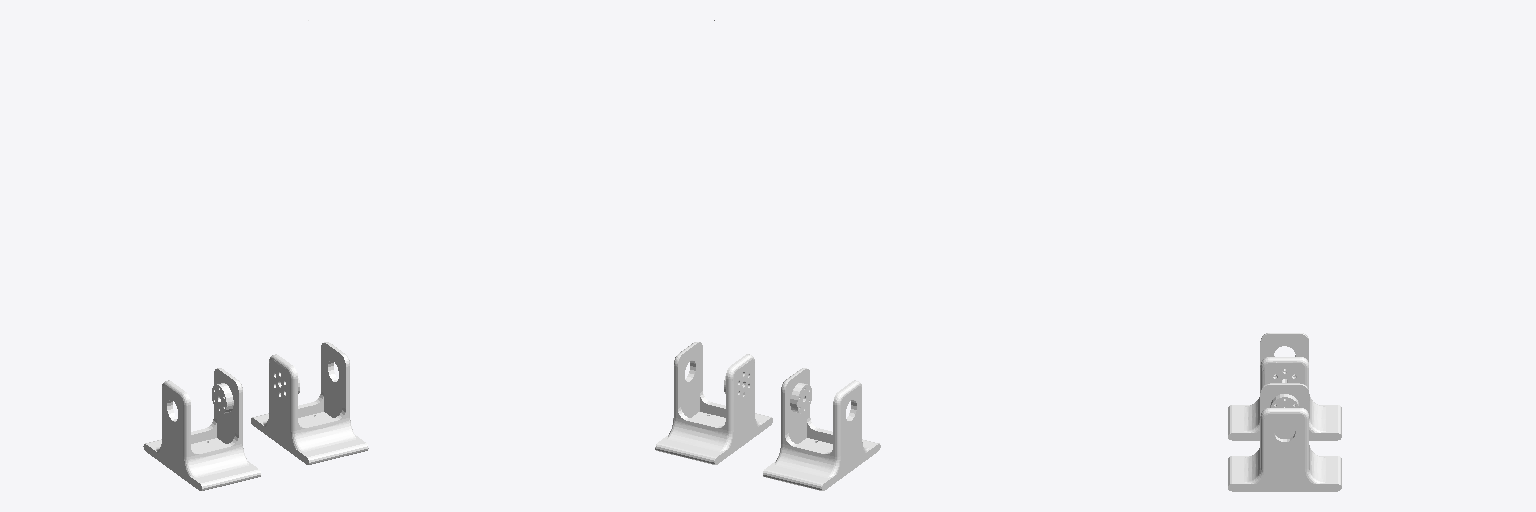
robot.urdf — Xuanwu:
<?xml version="1.0" encoding="utf-8"?>
<!-- This URDF was automatically created by SolidWorks to URDF Exporter! Originally created by [author] ([email redacted]) 
     Commit Version: 1.6.0-4-g7f85cfe  Build Version: 1.6.7995.38578
     For more information, please see http://wiki.ros.org/sw_urdf_exporter -->
<robot
  name="Xuanwu">
  <link
    name="base_link">
    <inertial>
      <origin
        xyz="0.001 -0.0001 0.0685"
        rpy="0 0 0" />
      <mass
        value="1.874" />
      <inertia
        ixx="0.018815"
        ixy="-0.000024"
        ixz="-0.000076"
        iyy="0.023869"
        iyz="0.000022"
        izz="0.006187" />
    </inertial>
    <visual>
      <origin
        xyz="0 0 0"
        rpy="0 0 0" />
      <geometry>
        <mesh
          filename="../meshes/base_link.STL" />
      </geometry>
      <material
        name="">
        <color
          rgba="1 1 1 1" />
      </material>
    </visual>
    <collision>
      <origin
        xyz="0 0 0.2"
        rpy="0 0 0" />
      <geometry>
        <box size="0.1 0.2 0.2"/>
      </geometry>
    </collision>
  </link>
  <link
    name="link_1">
    <inertial>
      <origin
        xyz="-0.006 -0.065 -0.0806"
        rpy="0 0 0" />
      <mass
        value="0.469" />
      <inertia
        ixx="0.006798"
        ixy="0.000002"
        ixz="0.000005"
        iyy="0.004351"
        iyz="-0.003146"
        izz="0.002837" />
    </inertial>
    <visual>
      <origin
        xyz="0 0 0"
        rpy="0 0 0" />
      <geometry>
        <mesh
          filename="../meshes/link_1.STL" />
      </geometry>
      <material
        name="">
        <color
          rgba="1 1 1 1" />
      </material>
    </visual>
    <!-- <collision>
      <origin
        xyz="0 0 0"
        rpy="0 0 0" />
      <geometry>
        <mesh
          filename="../meshes/link_1.STL" />
      </geometry>
    </collision> -->
  </link>
  <joint
    name="joint_1"
    type="revolute">
    <origin
      xyz="-0.073 0 -0.001"
      rpy="0 0 0" />
    <parent
      link="base_link" />
    <child
      link="link_1" />
    <axis
      xyz="0 0 1" />
    <limit
      lower="-0.5"
      upper="0.5"
      effort="7"
      velocity="12" />
  </joint>
  <link
    name="link_2">
    <inertial>
      <origin
        xyz="0 0.078 0"
        rpy="0 0 0" />
      <mass
        value="0.364" />
      <inertia
        ixx="0.000134"
        ixy="0"
        ixz="0"
        iyy="0.000094"
        iyz="0"
        izz="0.000146" />
    </inertial>
    <visual>
      <origin
        xyz="0 0 0"
        rpy="0 0 0" />
      <geometry>
        <mesh
          filename="../meshes/link_2.STL" />
      </geometry>
      <material
        name="">
        <color
          rgba="1 1 1 1" />
      </material>
    </visual>
    <!-- <collision>
      <origin
        xyz="0 0 0"
        rpy="0 0 0" />
      <geometry>
        <mesh
          filename="../meshes/link_2.STL" />
      </geometry>
    </collision> -->
  </link>
  <joint
    name="joint_2"
    type="revolute">
    <origin
      xyz="0 -0.083 -0.11"
      rpy="0 0 0" />
    <parent
      link="link_1" />
    <child
      link="link_2" />
    <axis
      xyz="0 1 0" />
    <limit
      lower="-0.7"
      upper="0.7"
      effort="7"
      velocity="12" />
  </joint>
  <link
    name="link_3">
    <inertial>
      <origin
        xyz="0 0 -0.145"
        rpy="0 0 0" />
      <mass
        value="0.475" />
      <inertia
        ixx="0.011707"
        ixy="0"
        ixz="-0.000057"
        iyy="0.011788"
        iyz="-0.000004"
        izz="0.000256" />
    </inertial>
    <visual>
      <origin
        xyz="0 0 0"
        rpy="0 0 0" />
      <geometry>
        <mesh
          filename="../meshes/link_3.STL" />
      </geometry>
      <material
        name="">
        <color
          rgba="1 1 1 1" />
      </material>
    </visual>
    <!-- <collision>
      <origin
        xyz="0 0 0"
        rpy="0 0 0" />
      <geometry>
        <mesh
          filename="../meshes/link_3.STL" />
      </geometry>
    </collision> -->
  </link>
  <joint
    name="joint_3"
    type="revolute">
    <origin
      xyz="0 0.082 0"
      rpy="0 0 0" />
    <parent
      link="link_2" />
    <child
      link="link_3" />
    <axis
      xyz="1 0 0" />
    <limit
      lower="-0.25"
      upper="1.57"
      effort="7"
      velocity="12" />
  </joint>
  <link
    name="link_4">
    <inertial>
      <origin
        xyz="0 0 -0.145"
        rpy="0 0 0" />
      <mass
        value="0.475" />
      <inertia
        ixx="0.011713"
        ixy="0"
        ixz="-0.000057"
        iyy="0.011793"
        iyz="0.000002"
        izz="0.000256" />
    </inertial>
    <visual>
      <origin
        xyz="0 0 0"
        rpy="0 0 0" />
      <geometry>
        <mesh
          filename="../meshes/link_4.STL" />
      </geometry>
      <material
        name="">
        <color
          rgba="1 1 1 1" />
      </material>
    </visual>
    <!-- <collision>
      <origin
        xyz="0 0 0"
        rpy="0 0 0" />
      <geometry>
        <mesh
          filename="../meshes/link_4.STL" />
      </geometry>
    </collision> -->
  </link>
  <joint
    name="joint_4"
    type="revolute">
    <origin
      xyz="0 0 -0.18"
      rpy="0 0 0" />
    <parent
      link="link_3" />
    <child
      link="link_4" />
    <axis
      xyz="1 0 0" />
    <limit
      lower="-1.57"
      upper="1.57"
      effort="7"
      velocity="12" />
  </joint>
  <link
    name="link_5">
    <inertial>
      <origin
        xyz="0 0 -0.053"
        rpy="0 0 0" />
      <mass
        value="0.107" />
      <inertia
        ixx="0.000494"
        ixy="0"
        ixz="-0.000005"
        iyy="0.000482"
        iyz="0"
        izz="0.000180" />
    </inertial>
    <visual>
      <origin
        xyz="0 0 0"
        rpy="0 0 0" />
      <geometry>
        <mesh
          filename="../meshes/link_5.STL" />
      </geometry>
      <material
        name="">
        <color
          rgba="1 1 1 1" />
      </material>
    </visual>
    <collision>
      <origin
        xyz="0 0 0"
        rpy="0 0 0" />
      <geometry>
        <mesh
          filename="../meshes/link_5.STL" />
      </geometry>
    </collision>
  </link>
  <joint
    name="joint_5"
    type="revolute">
    <origin
      xyz="0 0 -0.18"
      rpy="0 0 0" />
    <parent
      link="link_4" />
    <child
      link="link_5" />
    <axis
      xyz="1 0 0" />
    <limit
      lower="-1.57"
      upper="1.57"
      effort="7"
      velocity="12" />
  </joint>
  <link
    name="link_6">
    <inertial>
      <origin
        xyz="0.006 -0.065 -0.0806"
        rpy="0 0 0" />
      <mass
        value="0.469" />
      <inertia
        ixx="0.006798"
        ixy="-0.00002"
        ixz="-0.00005"
        iyy="0.004351"
        iyz="-0.003147"
        izz="0.002837" />
    </inertial>
    <visual>
      <origin
        xyz="0 0 0"
        rpy="0 0 0" />
      <geometry>
        <mesh
          filename="../meshes/link_6.STL" />
      </geometry>
      <material
        name="">
        <color
          rgba="1 1 1 1" />
      </material>
    </visual>
    <!-- <collision>
      <origin
        xyz="0 0 0"
        rpy="0 0 0" />
      <geometry>
        <mesh
          filename="../meshes/link_6.STL" />
      </geometry>
    </collision> -->
  </link>
  <joint
    name="joint_6"
    type="revolute">
    <origin
      xyz="0.073 0 -0.001"
      rpy="0 0 0" />
    <parent
      link="base_link" />
    <child
      link="link_6" />
    <axis
      xyz="0 0 1" />
    <limit
      lower="-0.5"
      upper="0.5"
      effort="7"
      velocity="12" />
  </joint>
  <link
    name="link_7">
    <inertial>
      <origin
        xyz="0 0.078 0"
        rpy="0 0 0" />
      <mass
        value="0.364" />
      <inertia
        ixx="0.002344"
        ixy="0.000003"
        ixz="0"
        iyy="0.000094"
        iyz="-0.000001"
        izz="0.002356" />
    </inertial>
    <visual>
      <origin
        xyz="0 0 0"
        rpy="0 0 0" />
      <geometry>
        <mesh
          filename="../meshes/link_7.STL" />
      </geometry>
      <material
        name="">
        <color
          rgba="1 1 1 1" />
      </material>
    </visual>
    <!-- <collision>
      <origin
        xyz="0 0 0"
        rpy="0 0 0" />
      <geometry>
        <mesh
          filename="../meshes/link_7.STL" />
      </geometry>
    </collision> -->
  </link>
  <joint
    name="joint_7"
    type="revolute">
    <origin
      xyz="0 -0.083 -0.11"
      rpy="0 0 0" />
    <parent
      link="link_6" />
    <child
      link="link_7" />
    <axis
      xyz="0 1 0" />
    <limit
      lower="-0.7"
      upper="0.7"
      effort="7"
      velocity="12" />
  </joint>
  <link
    name="link_8">
    <inertial>
      <origin
        xyz="0 0 -0.145"
        rpy="0 0 0" />
      <mass
        value="0.475" />
      <inertia
        ixx="0.011711"
        ixy="0"
        ixz="0.000057"
        iyy="0.011792"
        iyz="-0.000001"
        izz="0.000256" />
    </inertial>
    <visual>
      <origin
        xyz="0 0 0"
        rpy="0 0 0" />
      <geometry>
        <mesh
          filename="../meshes/link_8.STL" />
      </geometry>
      <material
        name="">
        <color
          rgba="1 1 1 1" />
      </material>
    </visual>
    <!-- <collision>
      <origin
        xyz="0 0 0"
        rpy="0 0 0" />
      <geometry>
        <mesh
          filename="../meshes/link_8.STL" />
      </geometry>
    </collision> -->
  </link>
  <joint
    name="joint_8"
    type="revolute">
    <origin
      xyz="0 0.082 0"
      rpy="0 0 0" />
    <parent
      link="link_7" />
    <child
      link="link_8" />
    <axis
      xyz="1 0 0" />
    <limit
      lower="-0.25"
      upper="1.57"
      effort="7"
      velocity="12" />
  </joint>
  <link
    name="link_9">
    <inertial>
      <origin
        xyz="0 0 -0.145"
        rpy="0 0 0" />
      <mass
        value="0.475" />
      <inertia
        ixx="0.011715"
        ixy="0"
        ixz="0.000057"
        iyy="0.011796"
        iyz="0"
        izz="0.000256" />
    </inertial>
    <visual>
      <origin
        xyz="0 0 0"
        rpy="0 0 0" />
      <geometry>
        <mesh
          filename="../meshes/link_9.STL" />
      </geometry>
      <material
        name="">
        <color
          rgba="1 1 1 1" />
      </material>
    </visual>
    <!-- <collision>
      <origin
        xyz="0 0 0"
        rpy="0 0 0" />
      <geometry>
        <mesh
          filename="../meshes/link_9.STL" />
      </geometry>
    </collision> -->
  </link>
  <joint
    name="joint_9"
    type="revolute">
    <origin
      xyz="0 0 -0.18"
      rpy="0 0 0" />
    <parent
      link="link_8" />
    <child
      link="link_9" />
    <axis
      xyz="1 0 0" />
    <limit
      lower="-1.57"
      upper="1.57"
      effort="7"
      velocity="12" />
  </joint>
  <link
    name="link_10">
    <inertial>
      <origin
        xyz="0 0 -0.053"
        rpy="0 0 0" />
      <mass
        value="0.107" />
      <inertia
        ixx="0.000493"
        ixy="0"
        ixz="0.000005"
        iyy="0.000482"
        iyz="0"
        izz="0.000180" />
    </inertial>
    <visual>
      <origin
        xyz="0 0 0"
        rpy="0 0 0" />
      <geometry>
        <mesh
          filename="../meshes/link_10.STL" />
      </geometry>
      <material
        name="">
        <color
          rgba="1 1 1 1" />
      </material>
    </visual>
    <collision>
      <origin
        xyz="0 0 0"
        rpy="0 0 0" />
      <geometry>
        <mesh
          filename="../meshes/link_10.STL" />
      </geometry>
    </collision>
  </link>
  <joint
    name="joint_10"
    type="revolute">
    <origin
      xyz="0 0 -0.18"
      rpy="0 0 0" />
    <parent
      link="link_9" />
    <child
      link="link_10" />
    <axis
      xyz="1 0 0" />
    <limit
      lower="-1.57"
      upper="1.57"
      effort="7"
      velocity="12" />
  </joint>
</robot>

--- Render facts (derived) ---
Views: 3 orthographic renders of the robot side by side, from view 1: azimuth 30°, elevation 25°; view 2: azimuth 150°, elevation 25°; view 3: azimuth 270°, elevation 25°.
Robot: Xuanwu — 11 links, 10 joints (10 revolute); root link base_link; default pose: every joint at zero.
Links seen in each view (by area): view 1: link_10, link_5; view 2: link_10, link_5; view 3: link_10, link_5.
Link boxes in pixels (x1=…): link_10: x1=251, y1=342, x2=368, y2=464; link_5: x1=143, y1=368, x2=260, y2=490; link_10: x1=655, y1=342, x2=772, y2=464; link_5: x1=763, y1=368, x2=880, y2=490; link_10: x1=1228, y1=383, x2=1341, y2=491; link_5: x1=1228, y1=333, x2=1341, y2=440.
Bounding box of the posed robot: 0.2298 × 0.152 × 0.5513 m (x, y, z).
11 mesh visuals loaded from 11 distinct referenced files (11 binary STL).
